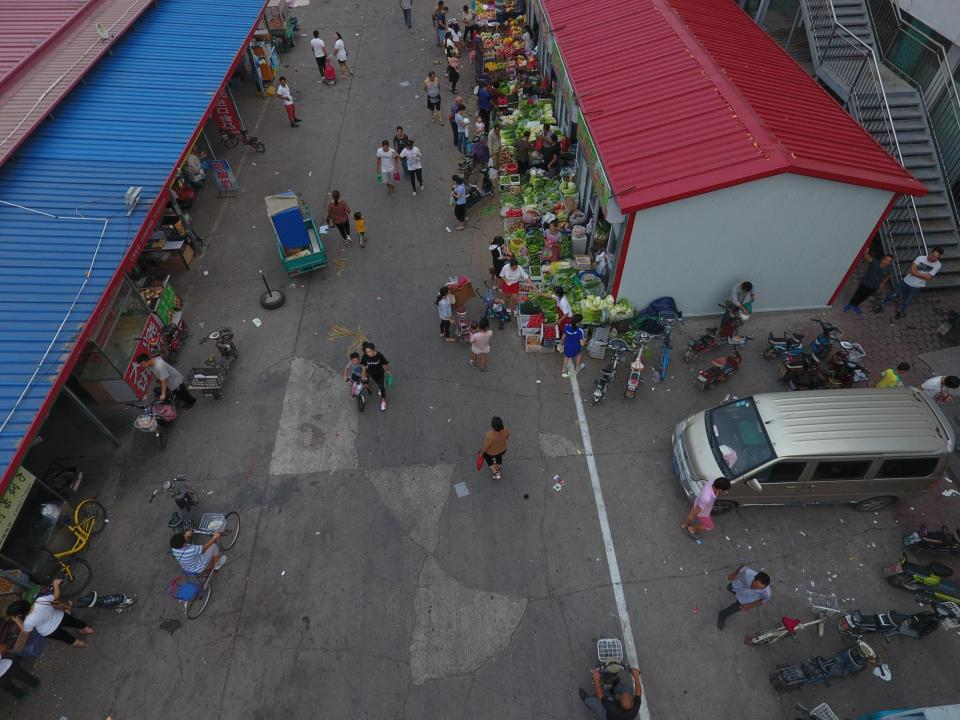car: (456, 132, 490, 184)
van: (671, 385, 955, 513)
